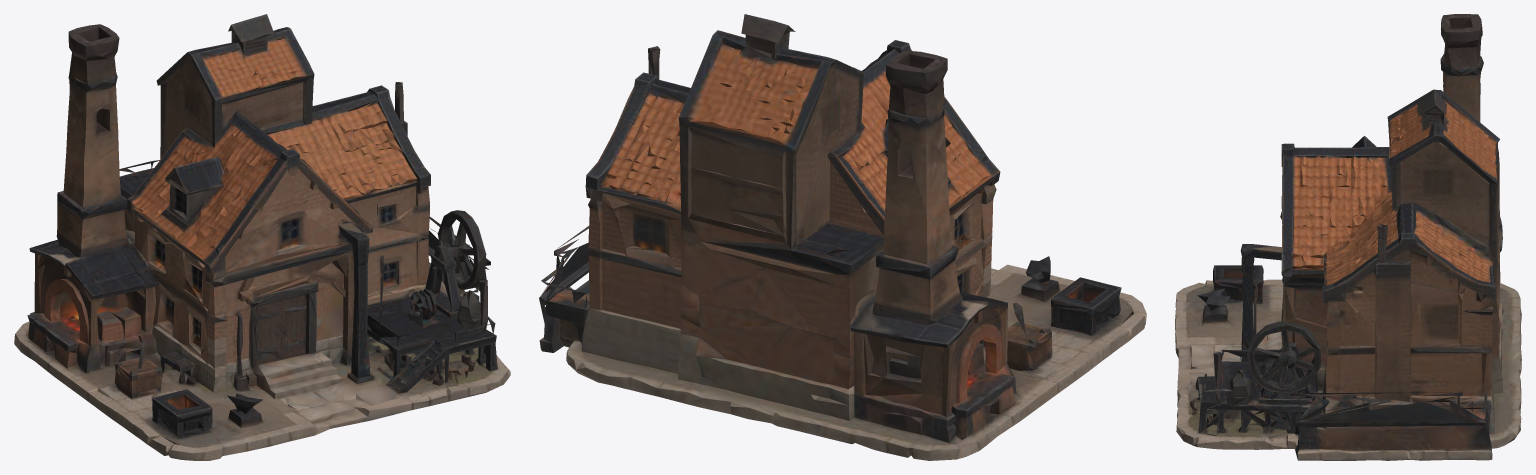
File: blacksmith.glb
3 views of the same model, side by side, from view 1: azimuth 30°, elevation 25°; view 2: azimuth 150°, elevation 25°; view 3: azimuth 270°, elevation 25° (orthographic). The views are drawn at different scales.
Size of the model in its own units: 1.9 by 1.51 by 1.6.
Materials: 1 (1 with a texture image).
